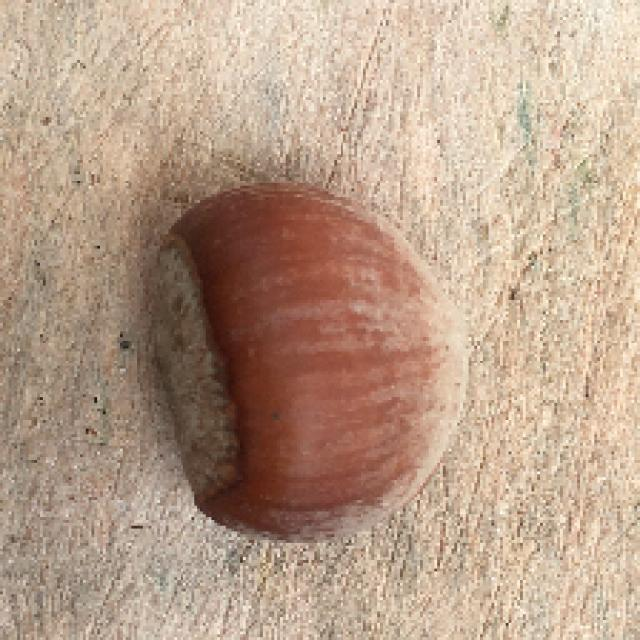qualityHazelnut: (129, 178, 476, 538)
